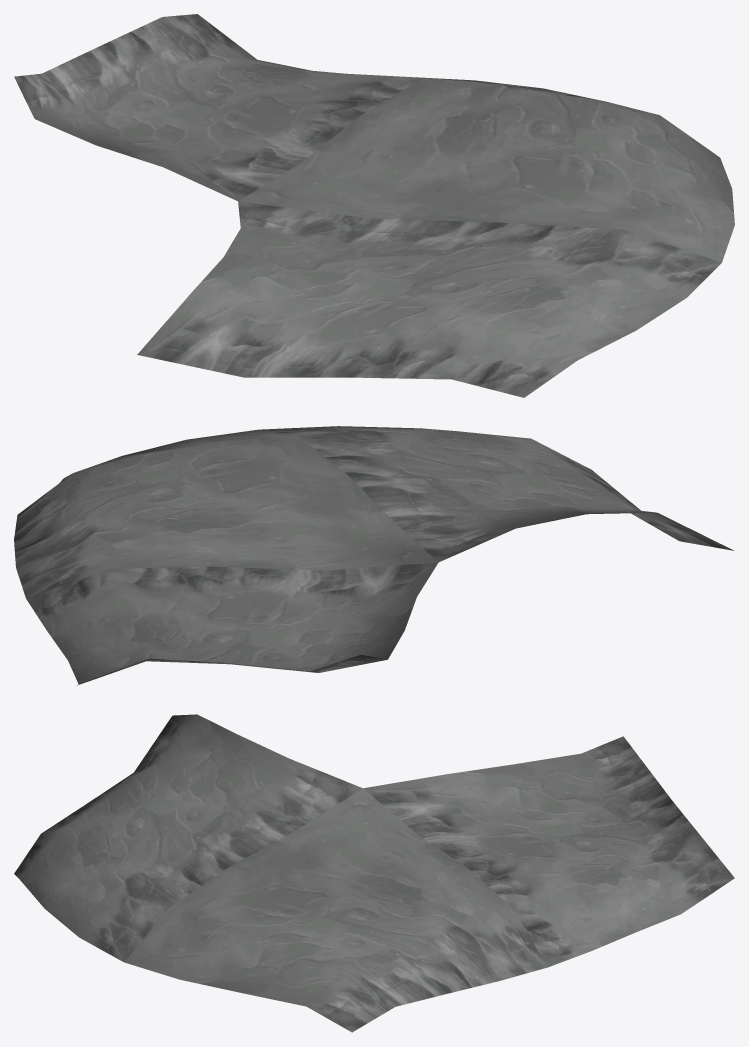
Rendered from SWORDLIGHT20_PS-AREA03_137.fbx.
3 views of the same model, one above another, from view 1: azimuth 30°, elevation 25°; view 2: azimuth 150°, elevation 25°; view 3: azimuth 270°, elevation 25° (orthographic). The views are drawn at different scales.
Parts seen in each view (by area): view 1: SWORDLIGHT20_PS-AREA03_137; view 2: SWORDLIGHT20_PS-AREA03_137; view 3: SWORDLIGHT20_PS-AREA03_137.
Part boxes in pixels (left/top/right/bottom): SWORDLIGHT20_PS-AREA03_137: left=14, top=14, right=734, bottom=397; SWORDLIGHT20_PS-AREA03_137: left=14, top=426, right=734, bottom=685; SWORDLIGHT20_PS-AREA03_137: left=14, top=714, right=734, bottom=1032.
Bounding box in the file's own units: 139621 × 18586 × 153656.
2 materials, 2 textured.
